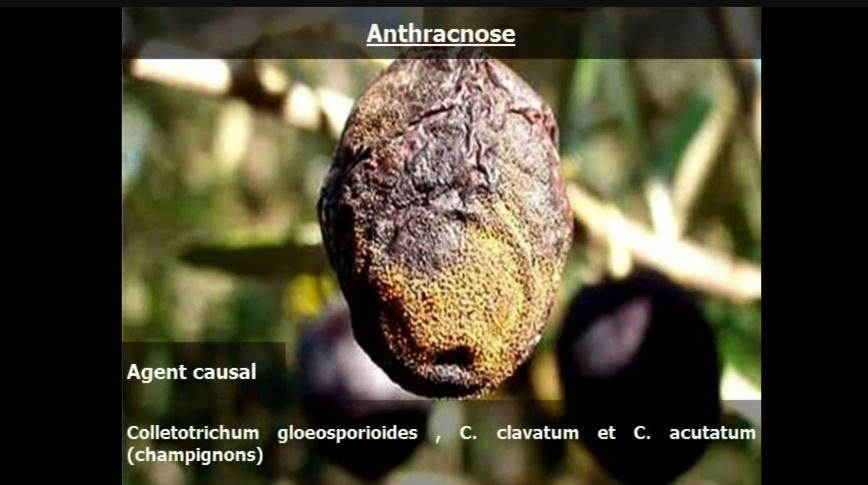Anthracnose: (312, 57, 577, 396)
